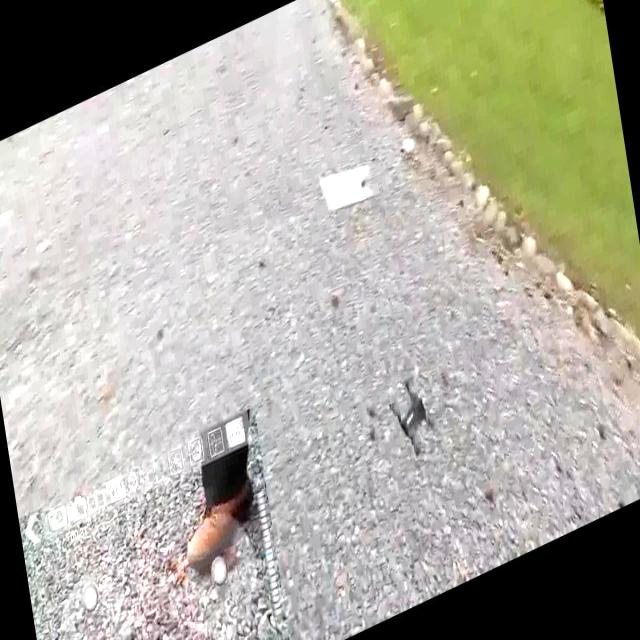drone: (381, 362, 446, 471)
